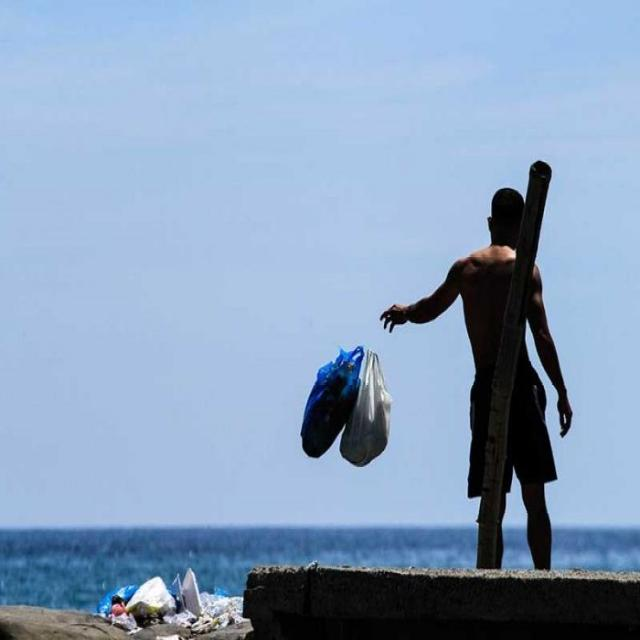sampah-detection: (300, 340, 392, 476), (94, 565, 250, 639)
